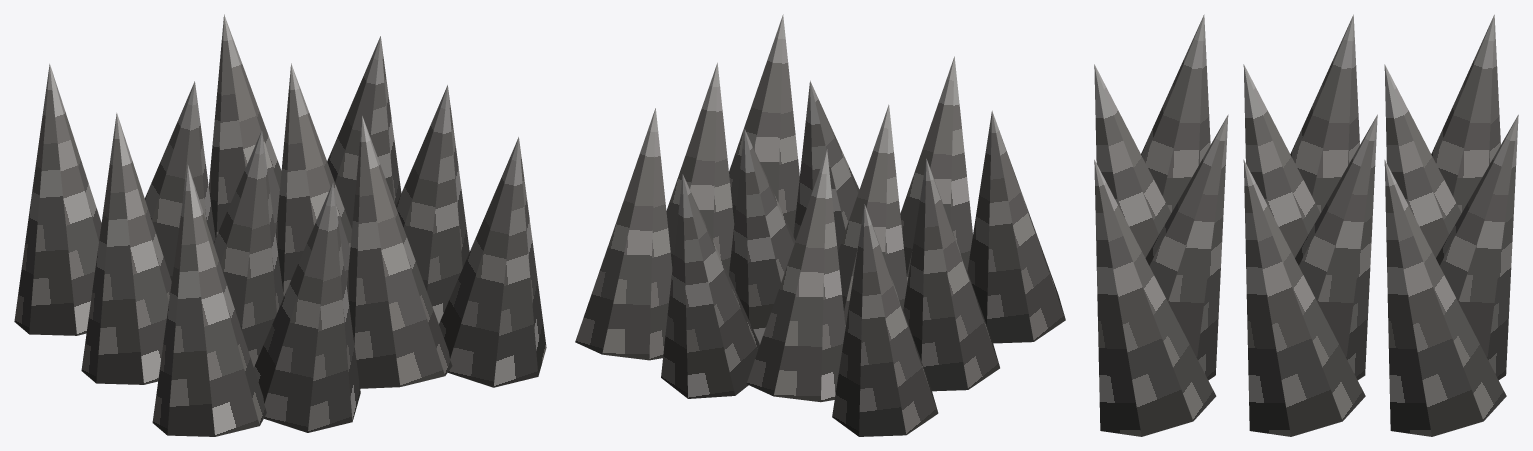
Rendered from Spikes_Stone.glb.
3 renders of one model, left to right at view 1: azimuth 30°, elevation 25°; view 2: azimuth 150°, elevation 25°; view 3: azimuth 270°, elevation 25°, orthographic. The views are drawn at different scales.
Parts seen in each view (by area): view 1: cone; view 2: cone; view 3: cone.
Part boxes in pixels (box(x1,y1,x2,y2)): cone: box(14, 14, 546, 436); cone: box(575, 14, 1065, 436); cone: box(1094, 14, 1518, 436).
Bounding box in the file's own units: 1.02 × 0.6514 × 0.9408.
Materials: 1 (1 with a texture image).
